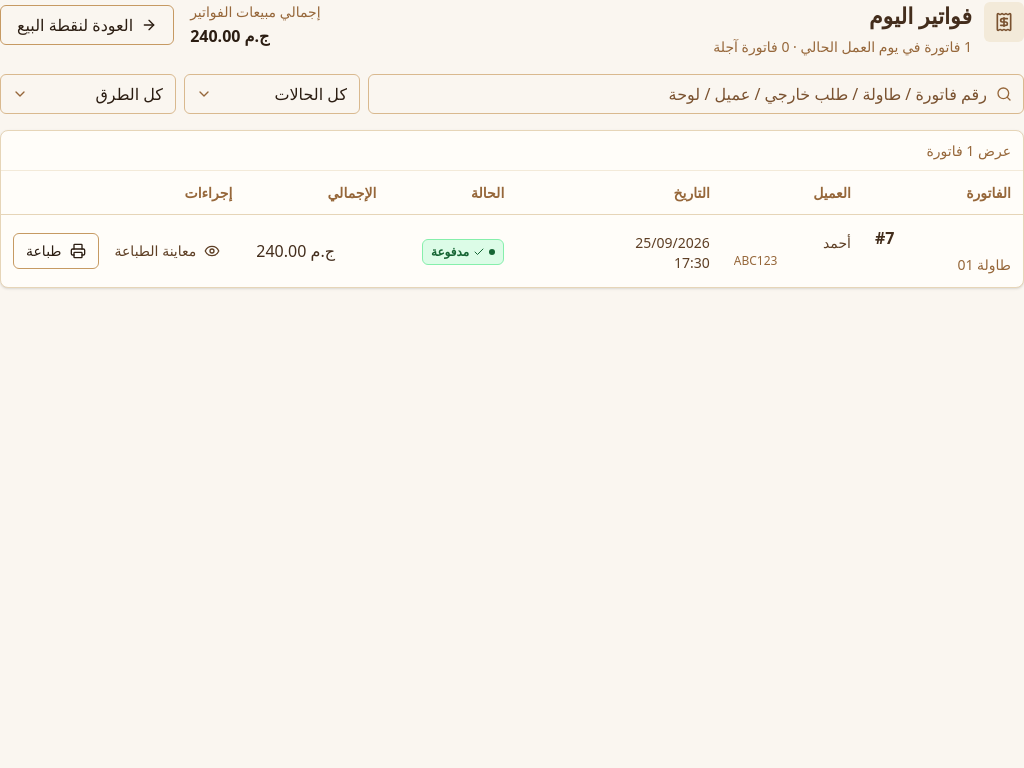
Test: Today invoices page › opens the SHARED print preview dialog for an invoice
Click the button with aria-label "معاينة الطباعة — #7" at (167, 251), box [102,233,232,269]
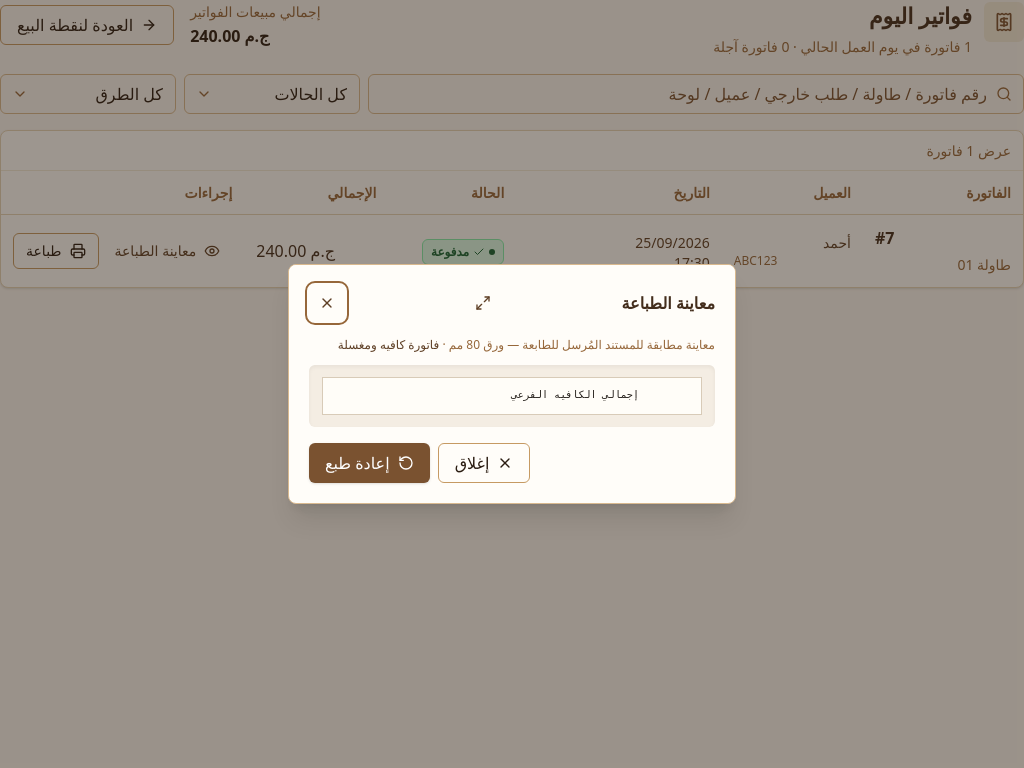
Now the dialog is shown, box [288,264,736,504]
Now the text "إجمالي الكافيه الفرعي" is shown, box [512,390,639,401]
